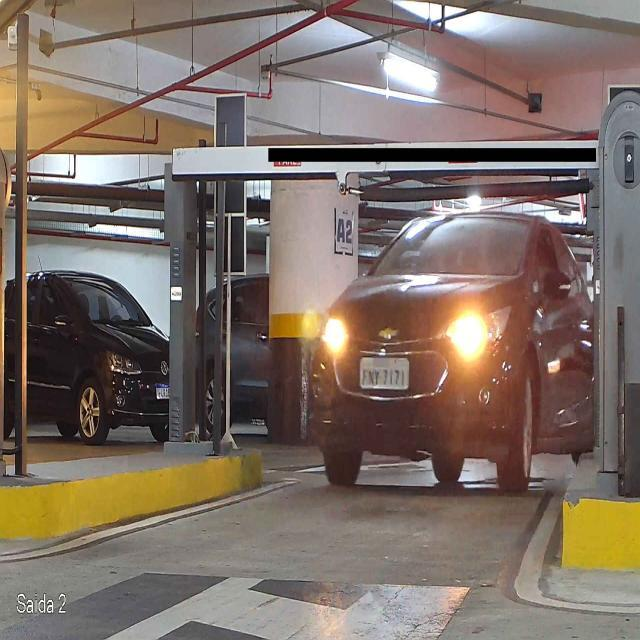old_plate: (358, 356, 412, 392)
